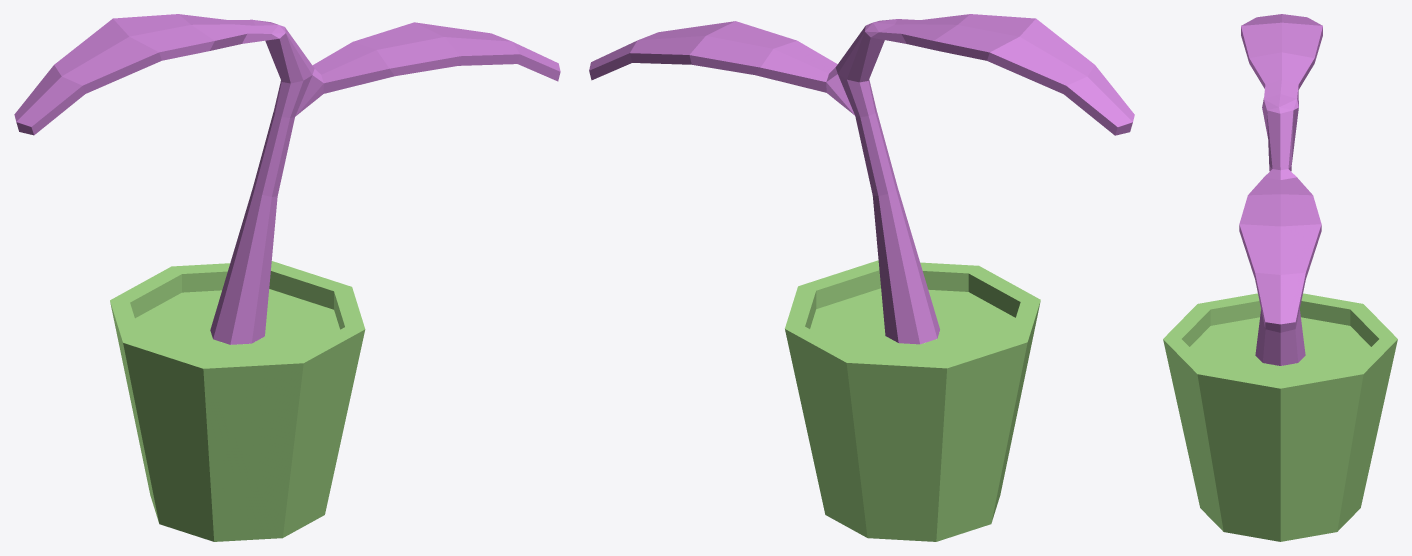
The model's file is Plant.glb.
3 renders of one model, left to right at view 1: azimuth 30°, elevation 25°; view 2: azimuth 150°, elevation 25°; view 3: azimuth 270°, elevation 25°, orthographic. The views are drawn at different scales.
Parts seen in each view (by area): view 1: Plant_0, Plant_1; view 2: Plant_0, Plant_1; view 3: Plant_0, Plant_1.
Part boxes in pixels (x1=…): Plant_0: x1=110, y1=261, x2=365, y2=541; Plant_1: x1=14, y1=14, x2=560, y2=344; Plant_0: x1=785, y1=260, x2=1040, y2=541; Plant_1: x1=589, y1=14, x2=1134, y2=344; Plant_0: x1=1163, y1=293, x2=1397, y2=541; Plant_1: x1=1239, y1=14, x2=1322, y2=365.
Bounding box in the file's own units: 0.3474 × 0.3028 × 0.1469.
